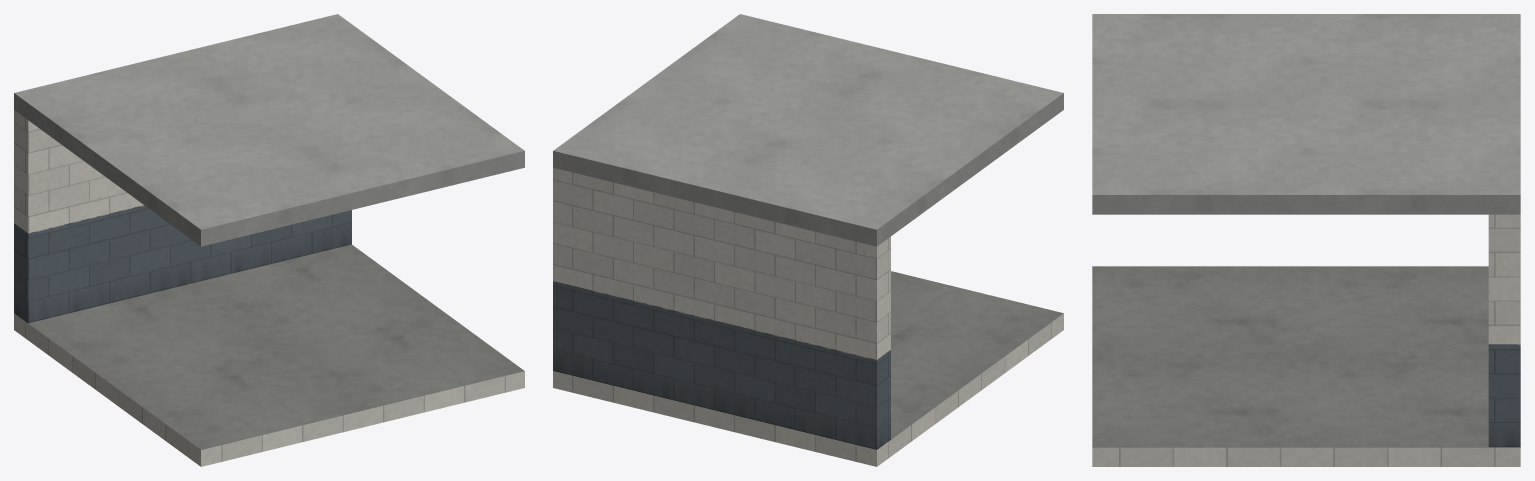
The model's file is Room_Basement_Wall_NoLight.glb.
3 views of the same model, side by side, from view 1: azimuth 30°, elevation 25°; view 2: azimuth 150°, elevation 25°; view 3: azimuth 270°, elevation 25° (orthographic). The views are drawn at different scales.
Visible parts, largest first — view 1: Room_Basement_Wall_NoLight, Room_Basement_Wall_NoLight_Ceiling; view 2: Room_Basement_Wall_NoLight, Room_Basement_Wall_NoLight_Ceiling; view 3: Room_Basement_Wall_NoLight, Room_Basement_Wall_NoLight_Ceiling.
Part boxes in pixels (box(x1,y1,x2,y2)): Room_Basement_Wall_NoLight: box(14, 110, 524, 466); Room_Basement_Wall_NoLight_Ceiling: box(14, 14, 524, 246); Room_Basement_Wall_NoLight: box(553, 168, 1063, 466); Room_Basement_Wall_NoLight_Ceiling: box(553, 14, 1063, 246); Room_Basement_Wall_NoLight: box(1092, 214, 1520, 466); Room_Basement_Wall_NoLight_Ceiling: box(1092, 14, 1520, 214).
Size of the model in its own units: 4 by 2.8 by 4.
3 materials, 3 textured.
